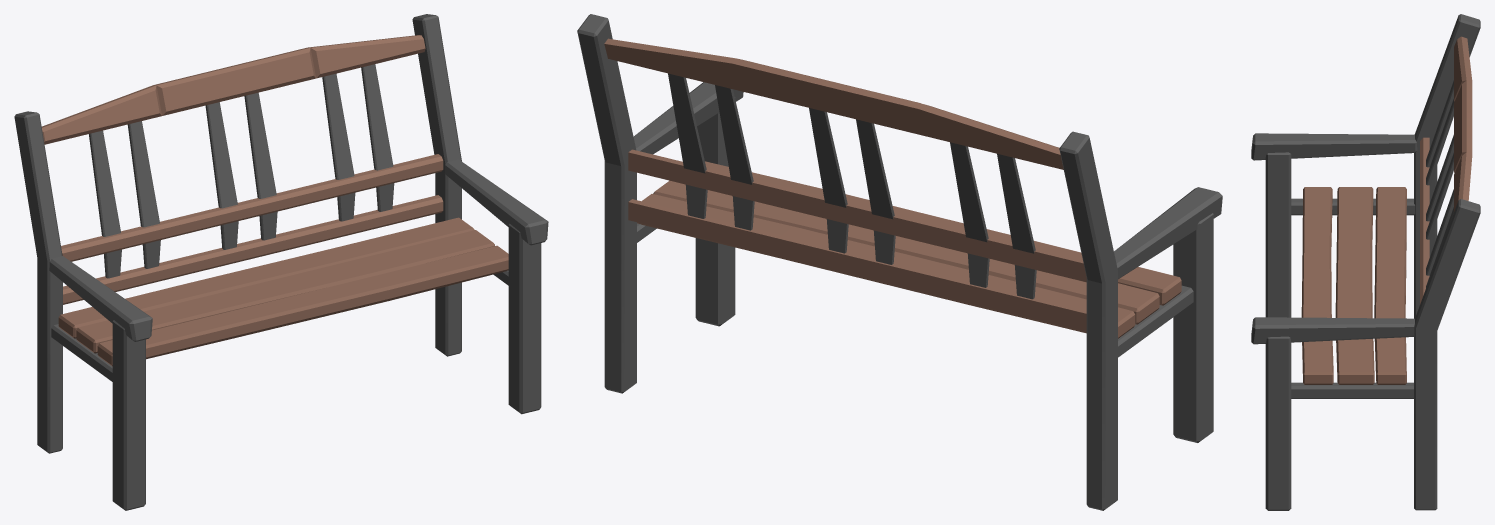
The model's file is bench_b002.glb.
3 renders of one model, left to right at view 1: azimuth 30°, elevation 25°; view 2: azimuth 150°, elevation 25°; view 3: azimuth 270°, elevation 25°, orthographic. The views are drawn at different scales.
Visible parts, largest first — view 1: bench_b002; view 2: bench_b002; view 3: bench_b002.
Boxes of the visible parts, x1,y1,x2,y2 form: bench_b002: [14, 14, 548, 510]; bench_b002: [577, 14, 1222, 510]; bench_b002: [1251, 14, 1480, 510].
Size of the model in its own units: 1.38 by 1.01 by 0.6873.
1 material, 1 textured.
